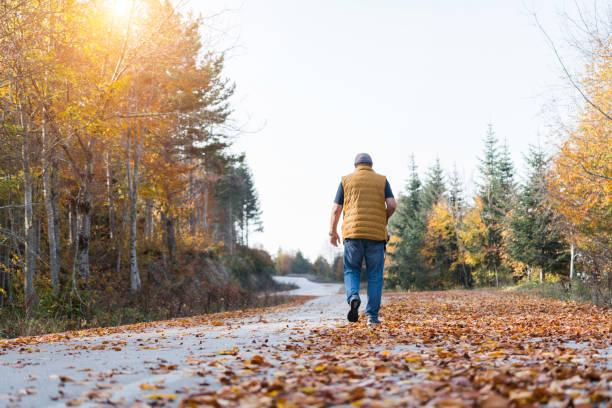Human: (329, 147, 411, 336)
